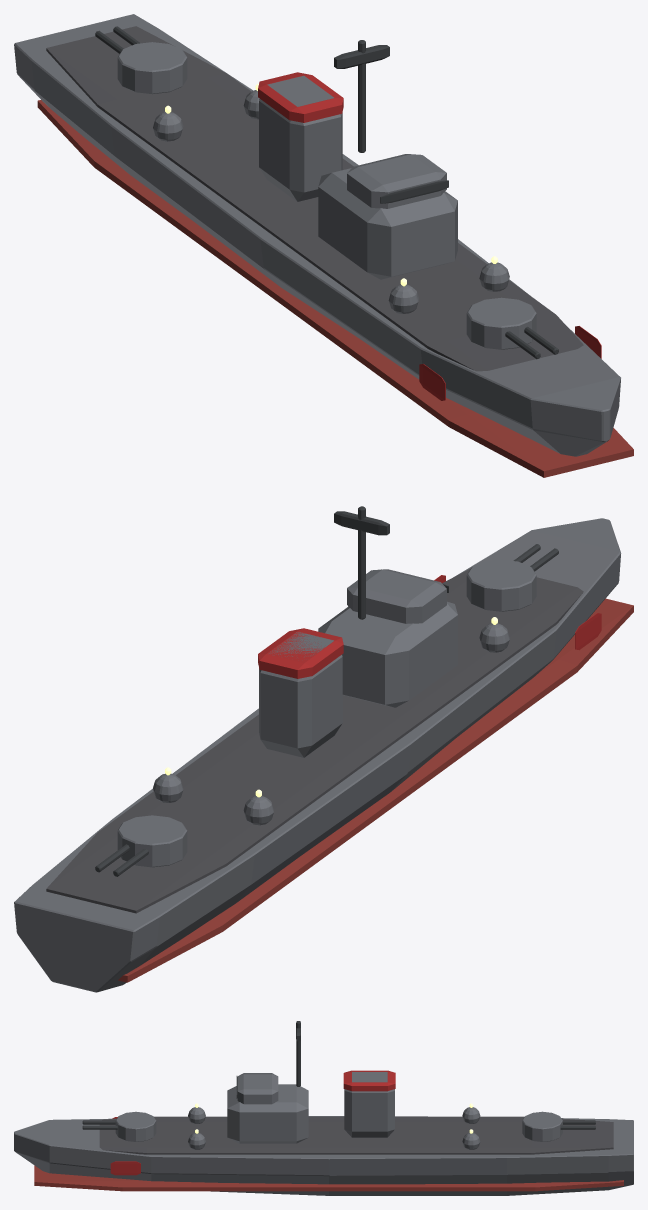
The model's file is NPC_Destroyer.fbx.
3 views of the same model, one above another, from view 1: azimuth 30°, elevation 25°; view 2: azimuth 150°, elevation 25°; view 3: azimuth 270°, elevation 25° (orthographic). The views are drawn at different scales.
Parts seen in each view (by area): view 1: Hull.003, Deck.003, Boot.003, Trim.006, Markings.003; view 2: Hull.003, Deck.003, Boot.003, Markings.003, Trim.006; view 3: Hull.003, Deck.003, Boot.003, Markings.003, Trim.006.
Part boxes in pixels (<box>): Hull.003: <box>14,14,620,456</box>; Deck.003: <box>46,26,583,371</box>; Boot.003: <box>37,100,633,477</box>; Trim.006: <box>95,26,558,359</box>; Markings.003: <box>258,72,601,400</box>; Hull.003: <box>14,518,621,992</box>; Deck.003: <box>46,568,583,913</box>; Boot.003: <box>118,598,633,982</box>; Markings.003: <box>258,575,601,678</box>; Trim.006: <box>95,506,558,876</box>; Hull.003: <box>14,1072,633,1195</box>; Deck.003: <box>99,1116,613,1154</box>; Boot.003: <box>34,1165,623,1191</box>; Markings.003: <box>110,1070,395,1175</box>; Trim.006: <box>82,1021,595,1129</box>.
Size of the model in its own units: 20.7 by 36 by 122.
